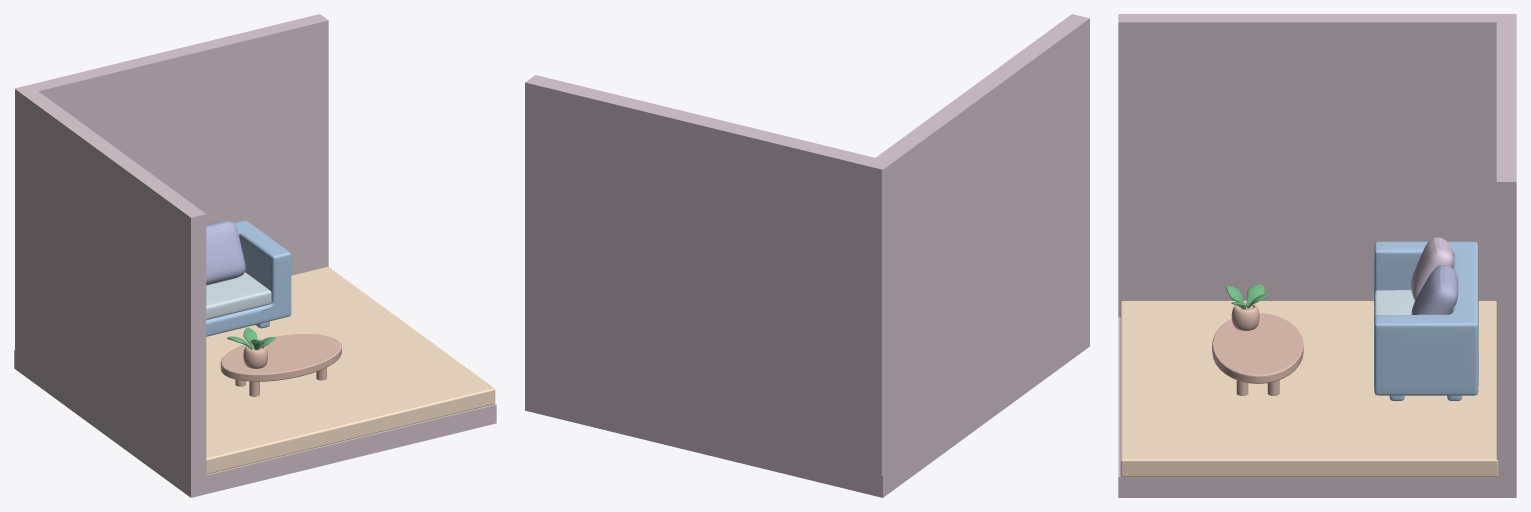
File: basicRoom.glb
3 views of the same model, side by side, from view 1: azimuth 30°, elevation 25°; view 2: azimuth 150°, elevation 25°; view 3: azimuth 270°, elevation 25° (orthographic). The views are drawn at different scales.
Visible parts, largest first — view 1: Plane.002, Plane.001, Plane.009, Plane.003; view 2: Plane.002, Plane.009; view 3: Plane.002, Plane.001, Plane.009, Plane.003.
Part boxes in pixels (x1,y1,x2,y2): Plane.002: (15, 14, 496, 496); Plane.001: (206, 267, 495, 474); Plane.009: (14, 220, 496, 497); Plane.003: (220, 334, 341, 381); Plane.002: (525, 14, 1089, 494); Plane.009: (525, 325, 1089, 497); Plane.002: (1118, 14, 1516, 497); Plane.001: (1120, 301, 1498, 477); Plane.009: (1118, 237, 1516, 497); Plane.003: (1212, 313, 1303, 383).
Bounding box in the file's own units: 4 × 3.5 × 4.
